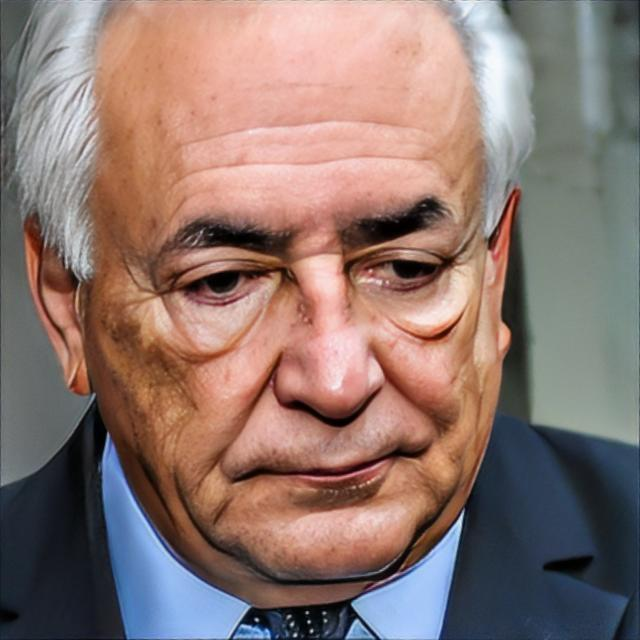anger: (90, 38, 490, 582)
